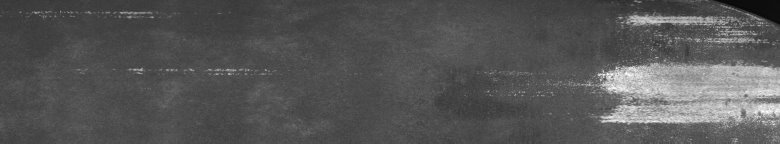kb: (509, 4, 776, 128)
